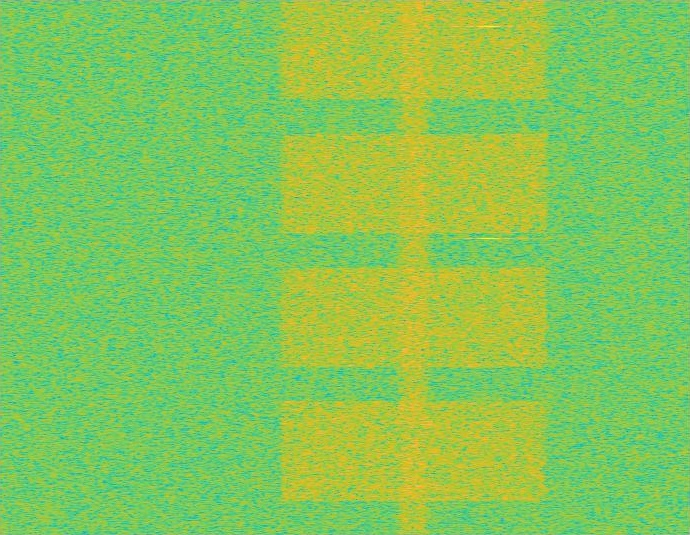5G: (276, 0, 552, 534)
DSSS: (395, 0, 433, 534)
Radar: (482, 0, 496, 534)
